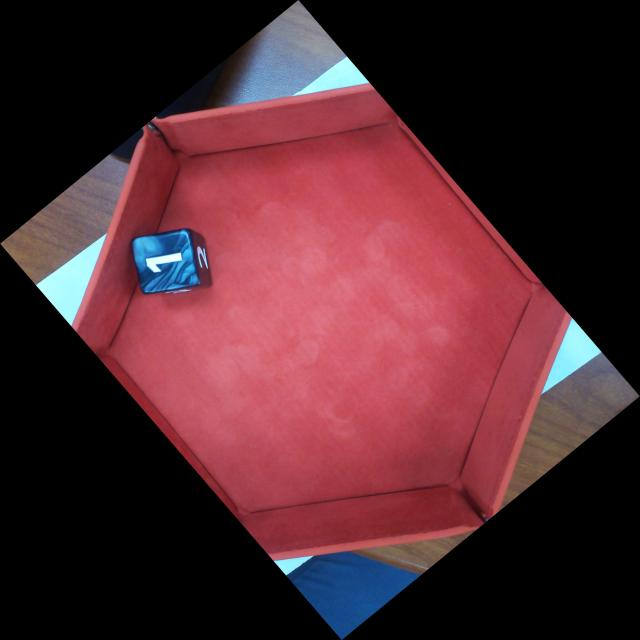dice: (131, 228, 202, 296)
